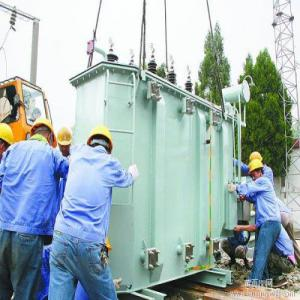yellow: (87, 125, 115, 156), (31, 117, 56, 149), (2, 123, 17, 157), (58, 126, 73, 154), (250, 161, 266, 182)
